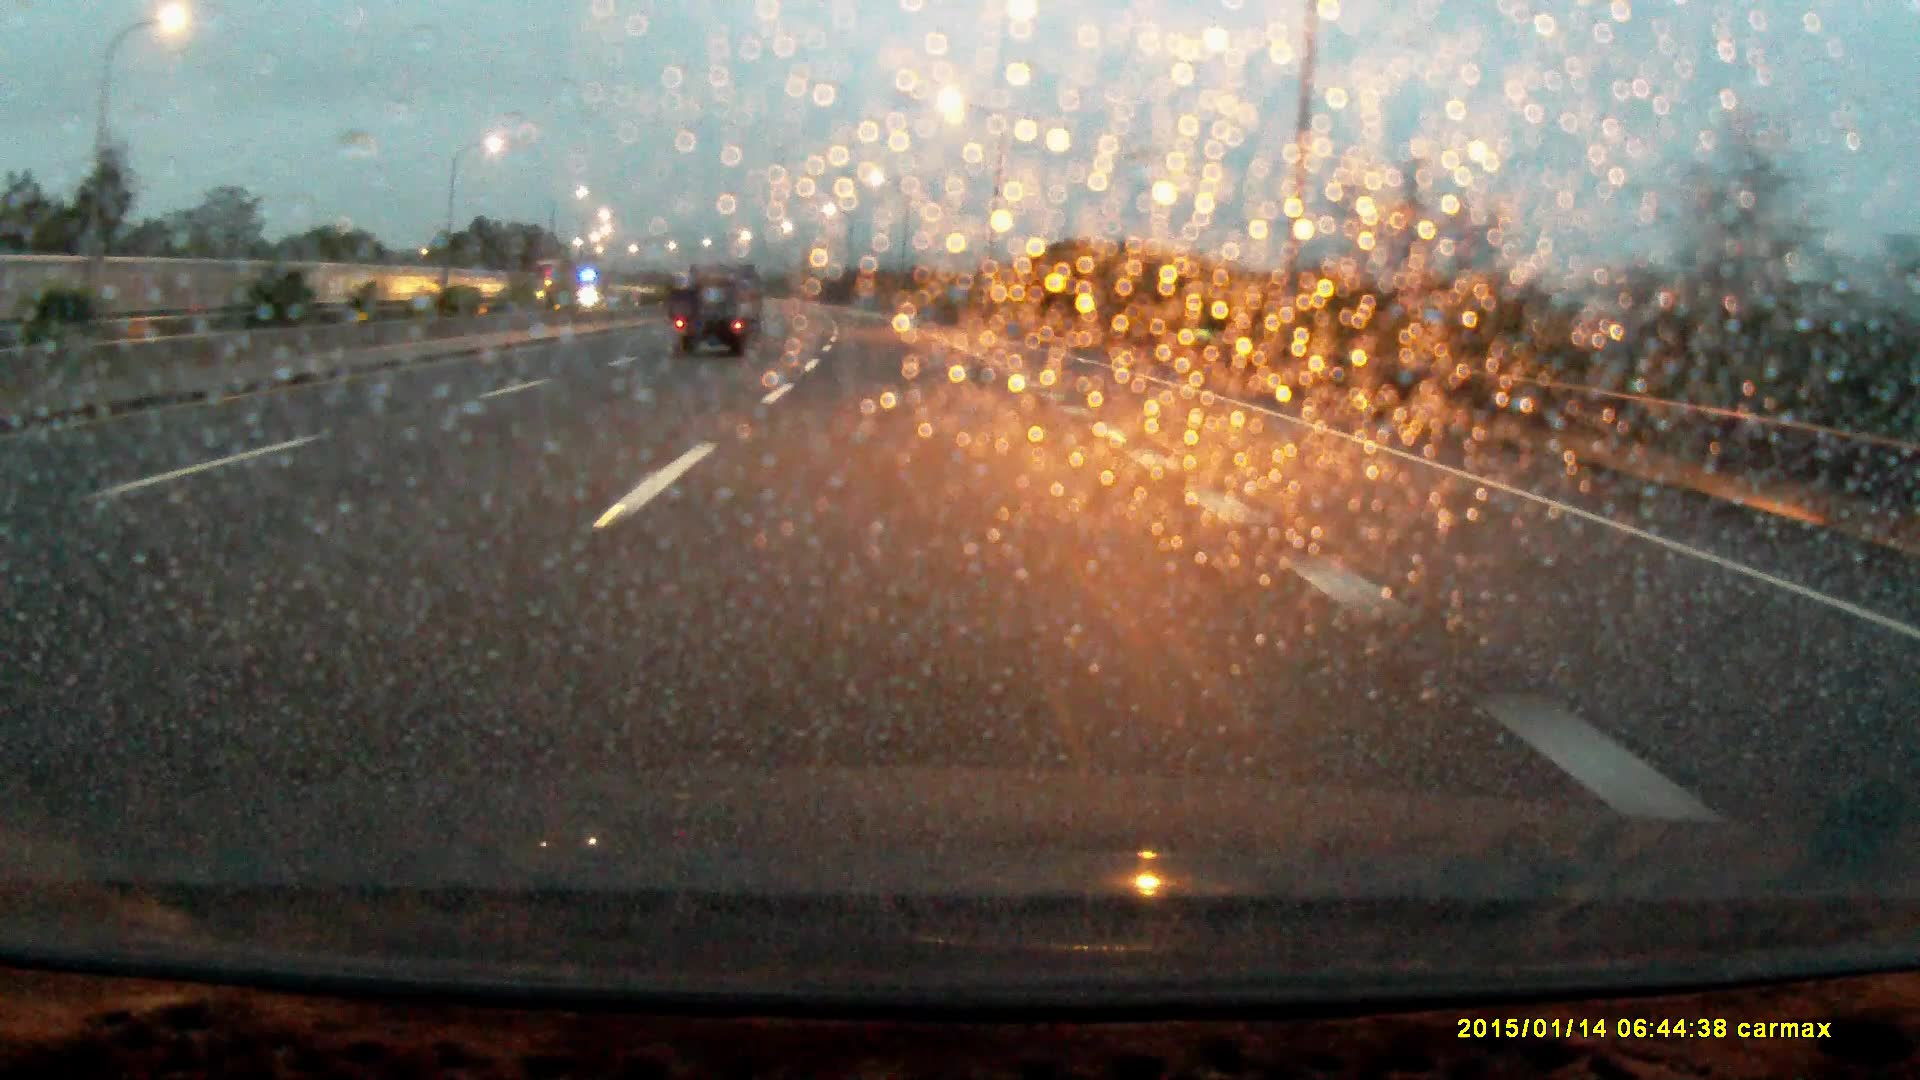vehicle: (674, 265, 762, 361)
